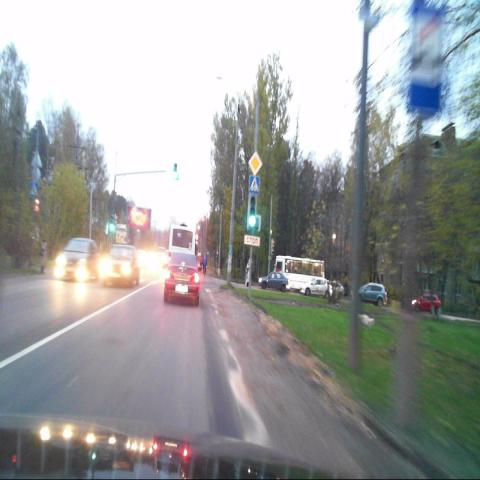7_2: (407, 4, 442, 113)
